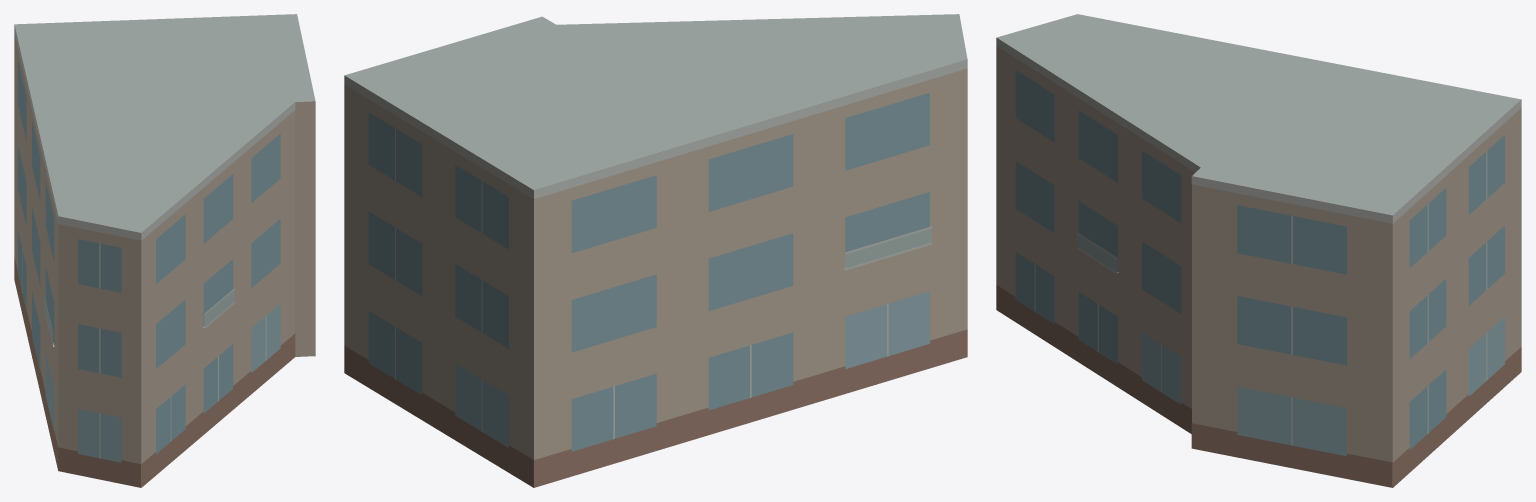
File: survey-upis-32961771.glb
3 views of the same model, side by side, from view 1: azimuth 30°, elevation 25°; view 2: azimuth 150°, elevation 25°; view 3: azimuth 270°, elevation 25° (orthographic). The views are drawn at different scales.
Visible parts, largest first — view 1: survey-upis-32961771.tmp; view 2: survey-upis-32961771.tmp; view 3: survey-upis-32961771.tmp.
Boxes of the visible parts, x1,y1,x2,y2 form: survey-upis-32961771.tmp: (14,14,315,487); survey-upis-32961771.tmp: (344,14,967,487); survey-upis-32961771.tmp: (996,14,1521,487).
Size of the model in its own units: 12.71 by 8.01 by 14.
